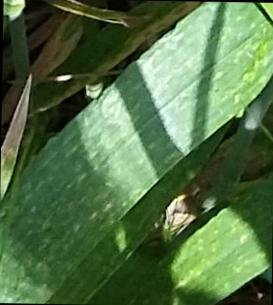Wheat: (55, 11, 225, 228), (96, 176, 273, 305), (1, 214, 86, 303), (228, 2, 273, 71)
